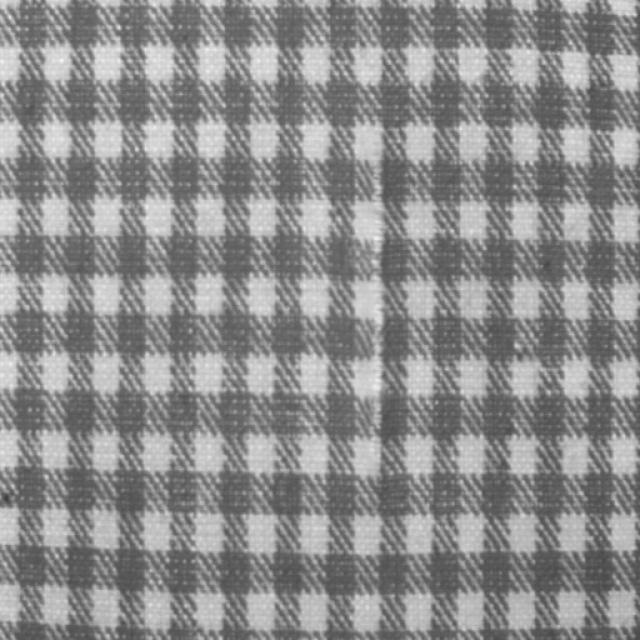Thread-Defect: (365, 143, 387, 446)
